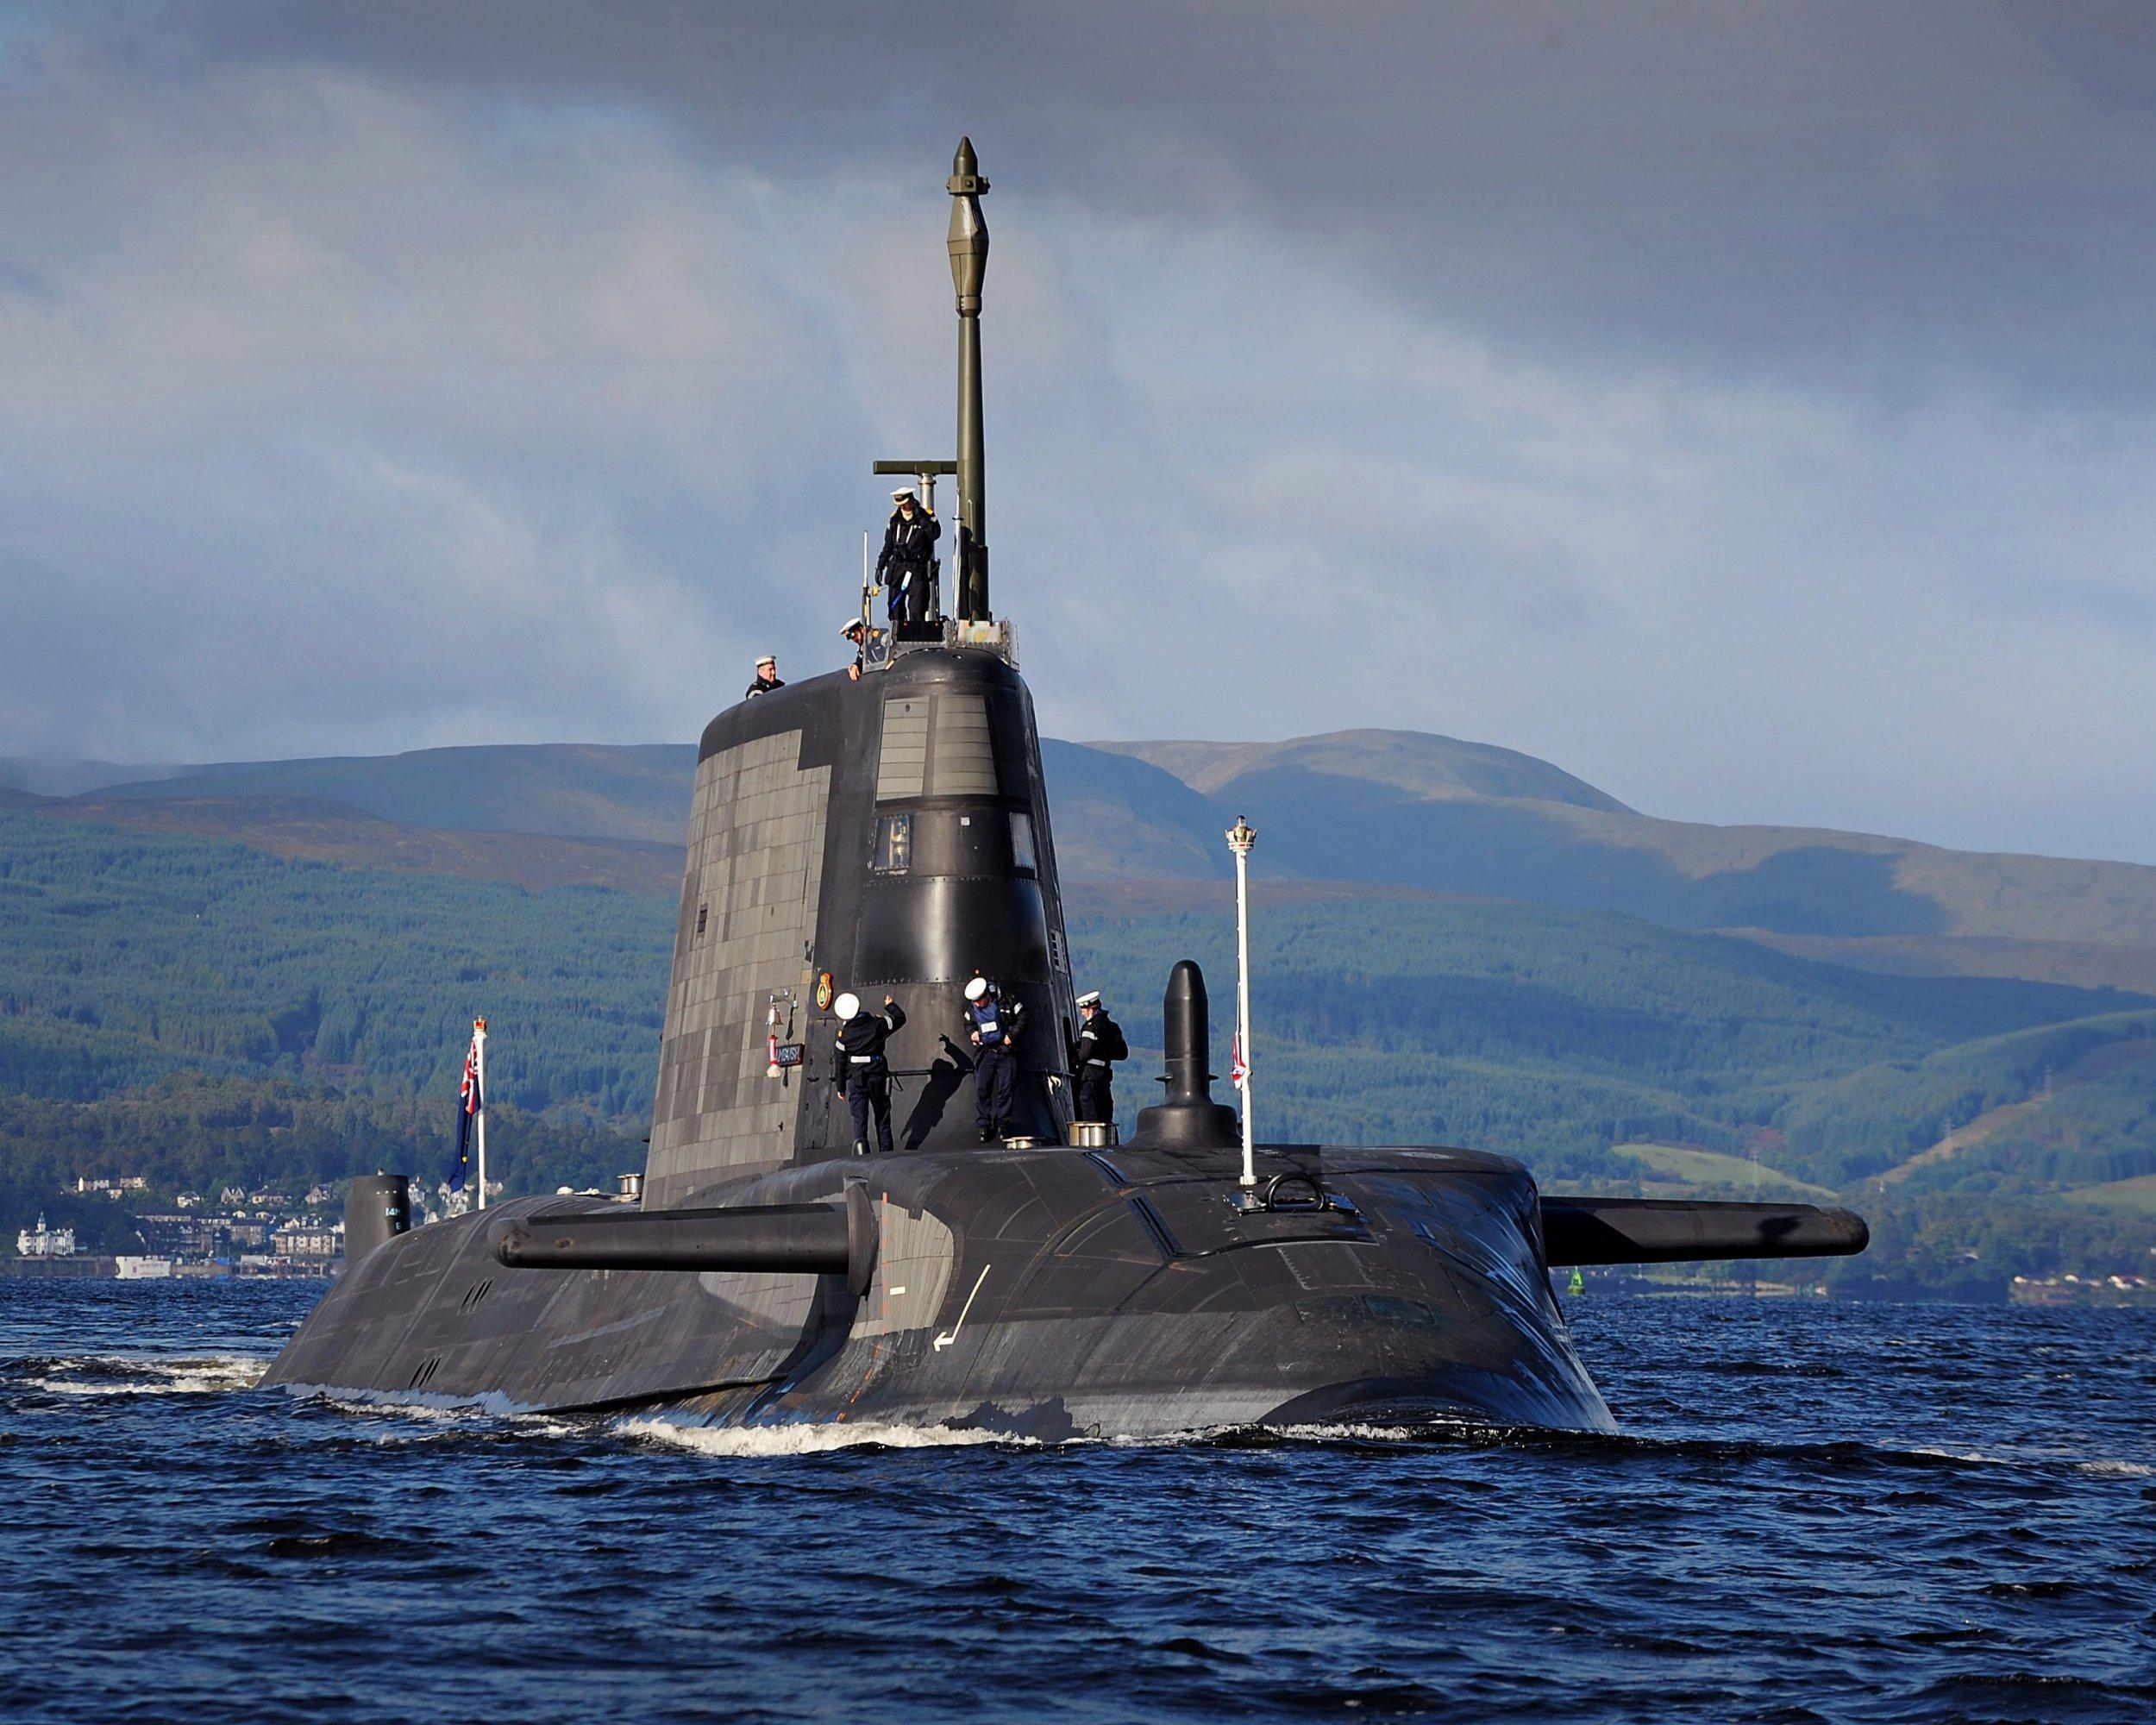Submarine: (26, 30, 2043, 1725)
